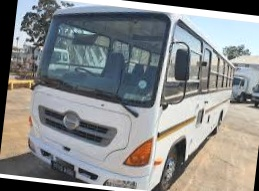bus: (21, 0, 245, 191)
